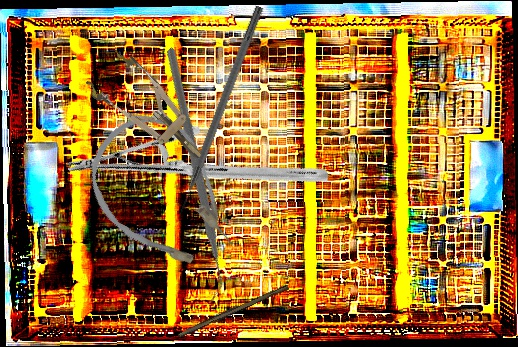Cannula: (67, 95, 259, 297)
Chopper: (62, 47, 319, 304)
Hook Surgical: (171, 4, 265, 224)
Needle Holder: (64, 57, 331, 284)
Scalpel Handle: (176, 281, 290, 340)
Speculum: (81, 45, 219, 179)
